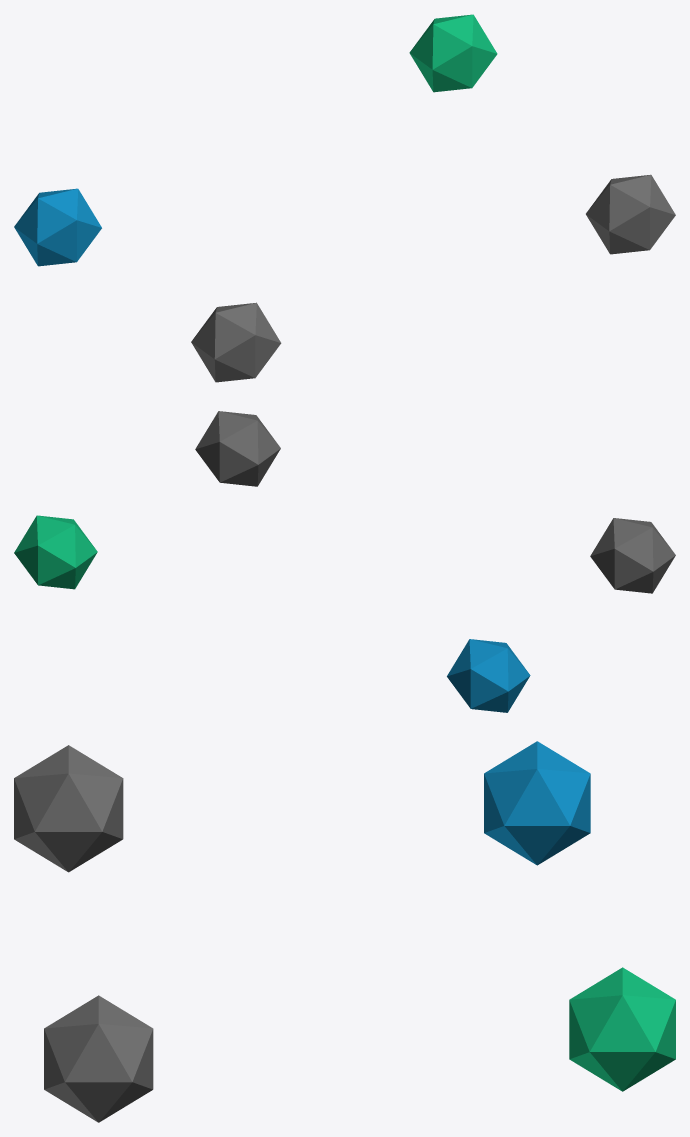
3 renders of one model, top to bottom at view 1: azimuth 30°, elevation 25°; view 2: azimuth 150°, elevation 25°; view 3: azimuth 270°, elevation 25°, orthographic. The views are drawn at different scales.
Visible parts, largest first — view 1: 05_07_00; view 2: 05_07_00; view 3: 05_07_00.
Boxes of the visible parts, bbox=[...] form: 05_07_00: bbox=[14, 14, 675, 382]; 05_07_00: bbox=[14, 411, 675, 712]; 05_07_00: bbox=[14, 741, 675, 1122].
Size of the model in its own units: 0.4092 by 0.0928 by 0.3369.
